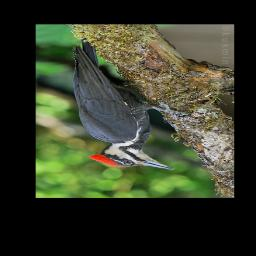Woodpecker: (61, 37, 189, 171)
